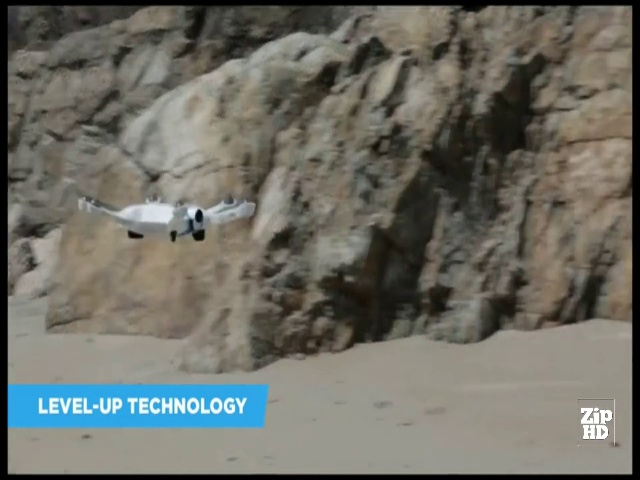drone: (66, 164, 261, 253)
